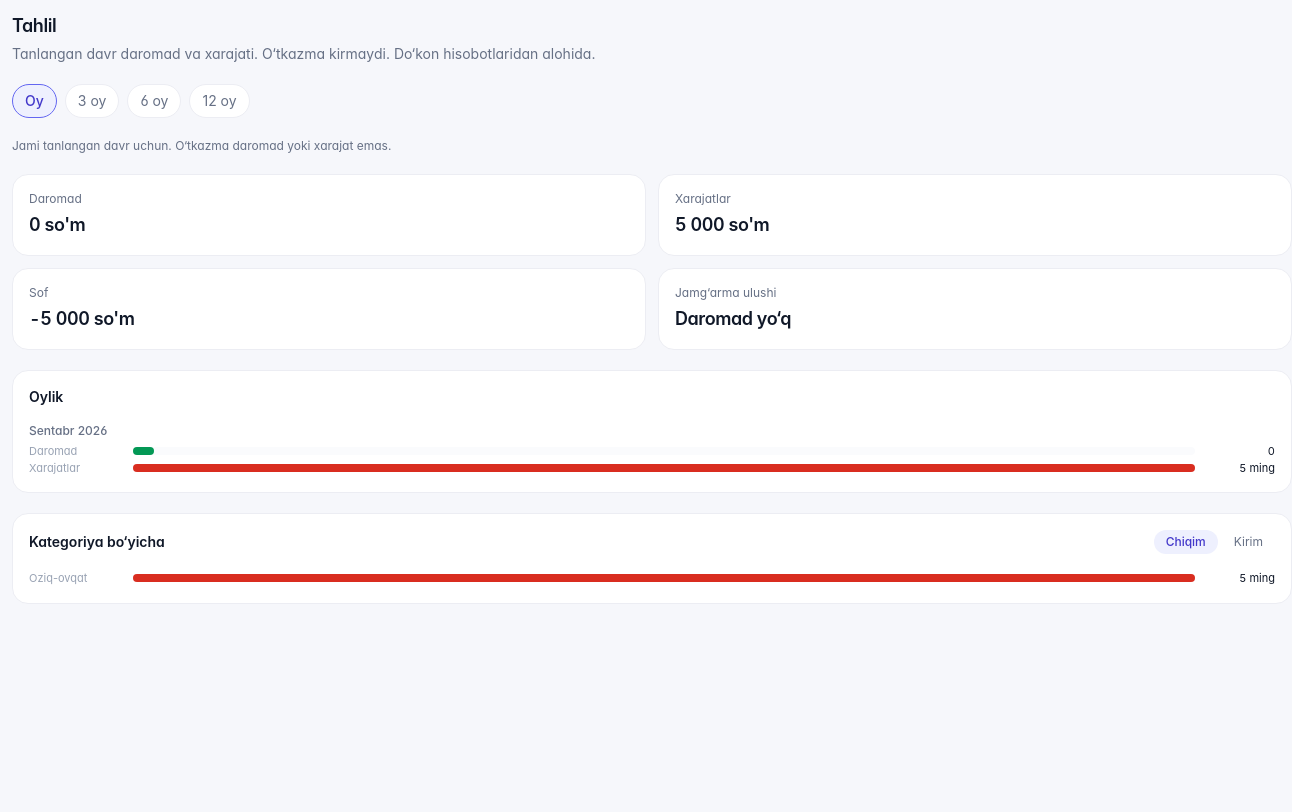
Scenario: PersonalAnalyticsPage › shows period chips, expense categories and keeps transfers out of copy
The image size is (1292, 812).
Check: the heading "Tahlil" is shown, box [12,15,56,36]
Check: the button "Oy" is shown, box [12,84,57,118]
Step 1. Click the button "Kirim" → (1248, 542), box [1222,530,1275,554]
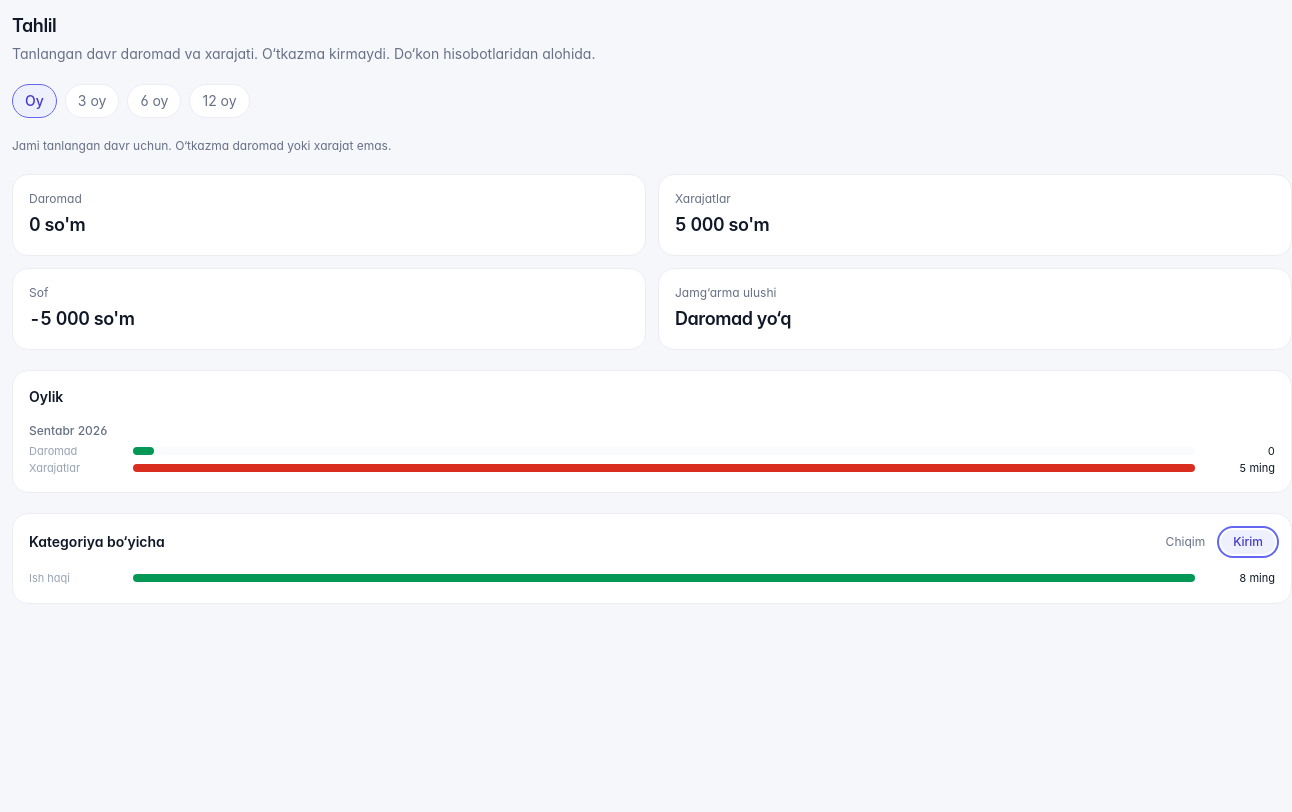
Check: the text "Ish haqi" is shown, box [29,571,70,585]
Check: the text "Oziq-ovqat" is gone
